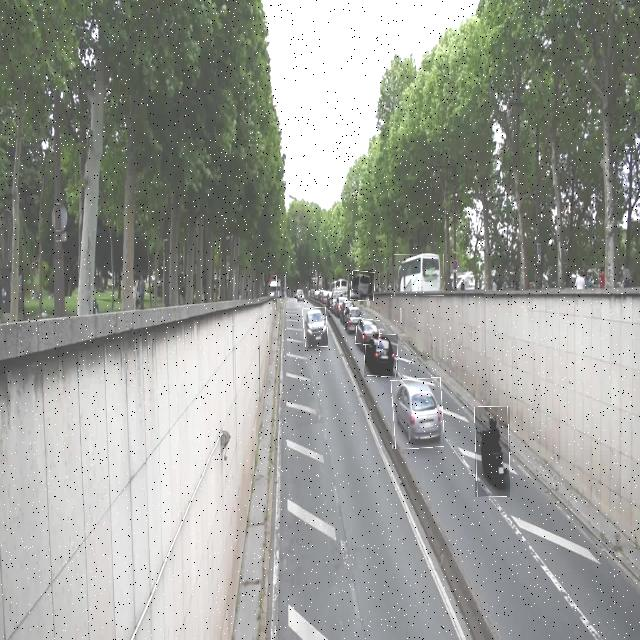Bus: (394, 254, 444, 296), (351, 270, 374, 300)
Car: (392, 378, 443, 449), (364, 334, 398, 377), (303, 308, 328, 347), (355, 319, 380, 344), (345, 308, 363, 328)
Motorcycle: (475, 407, 510, 497)
